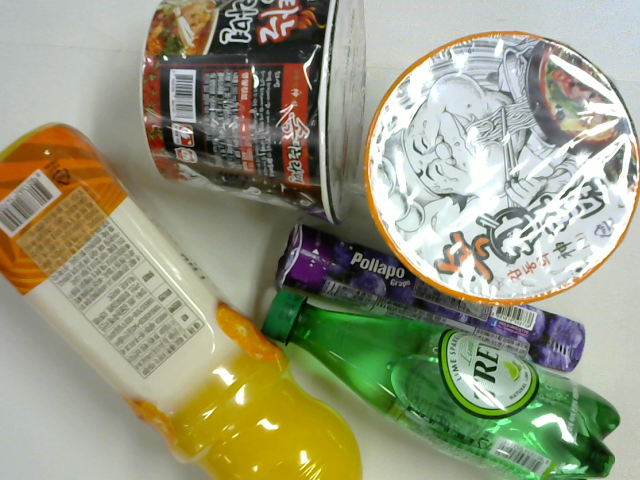HeJangsock: (140, 2, 379, 221)
Hejangchan: (366, 33, 640, 306)
Jeju_Tangerine_1.5L: (1, 124, 369, 480)
Polapo_Grape: (271, 228, 586, 370)
Treviraim_500ml: (259, 291, 622, 480)
